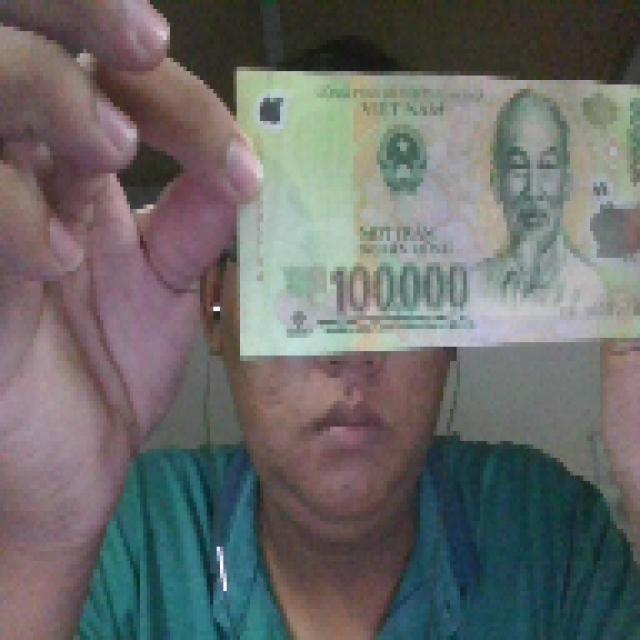100 000 VND: (226, 58, 636, 360)
